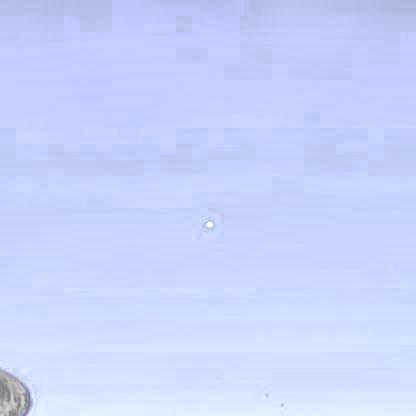golfball: (201, 216, 213, 228)
